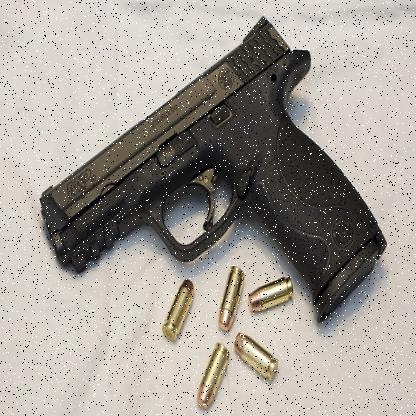pistol: (39, 15, 386, 330)
